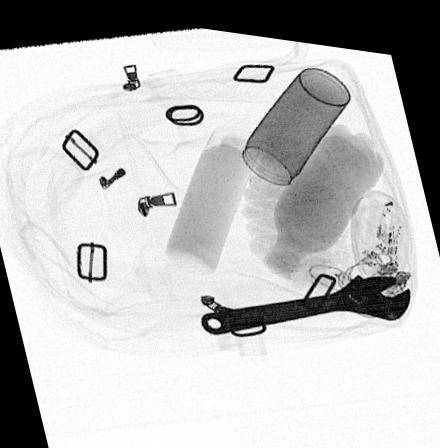Wrench: (199, 262, 411, 328)
